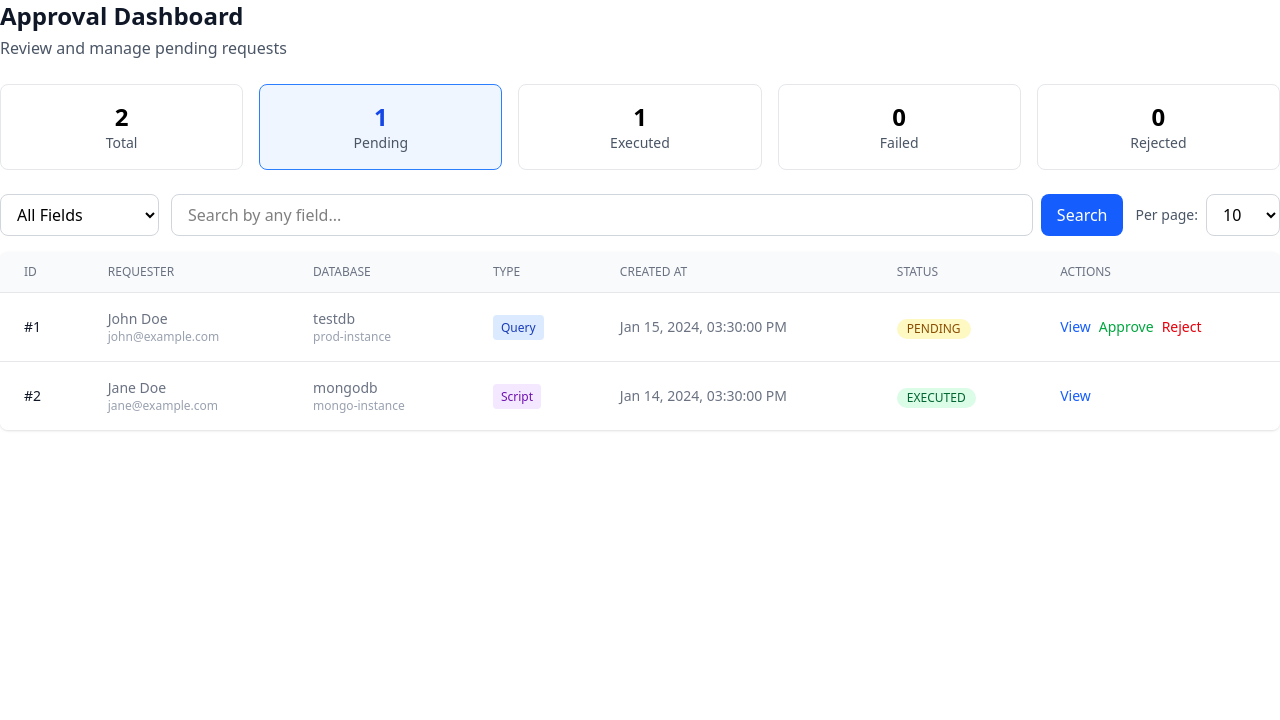
Test: ApprovalDashboard - Fixed Tests › Modal functionality › should open and close reject modal
Expected: the text "#1" is shown, top-left (0, 292), bottom-right (84, 362)
# Click reject button in table (first one)
Click the button "Reject": click(1182, 327) top-left (1162, 317), bottom-right (1202, 337)
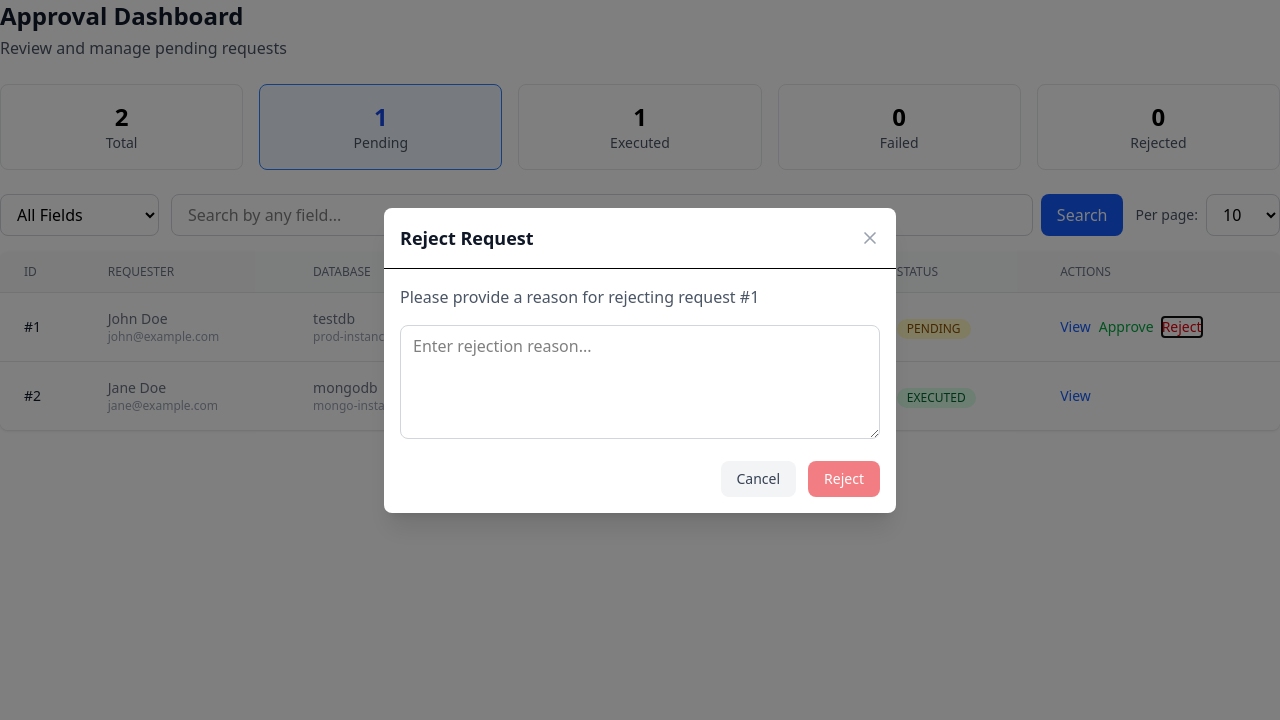
Expected: the text "Please provide a reason for rejecting request #1" is shown, top-left (400, 286), bottom-right (759, 308)
# Close modal by clicking Cancel
Click the button "Cancel": click(758, 478) top-left (720, 460), bottom-right (796, 496)
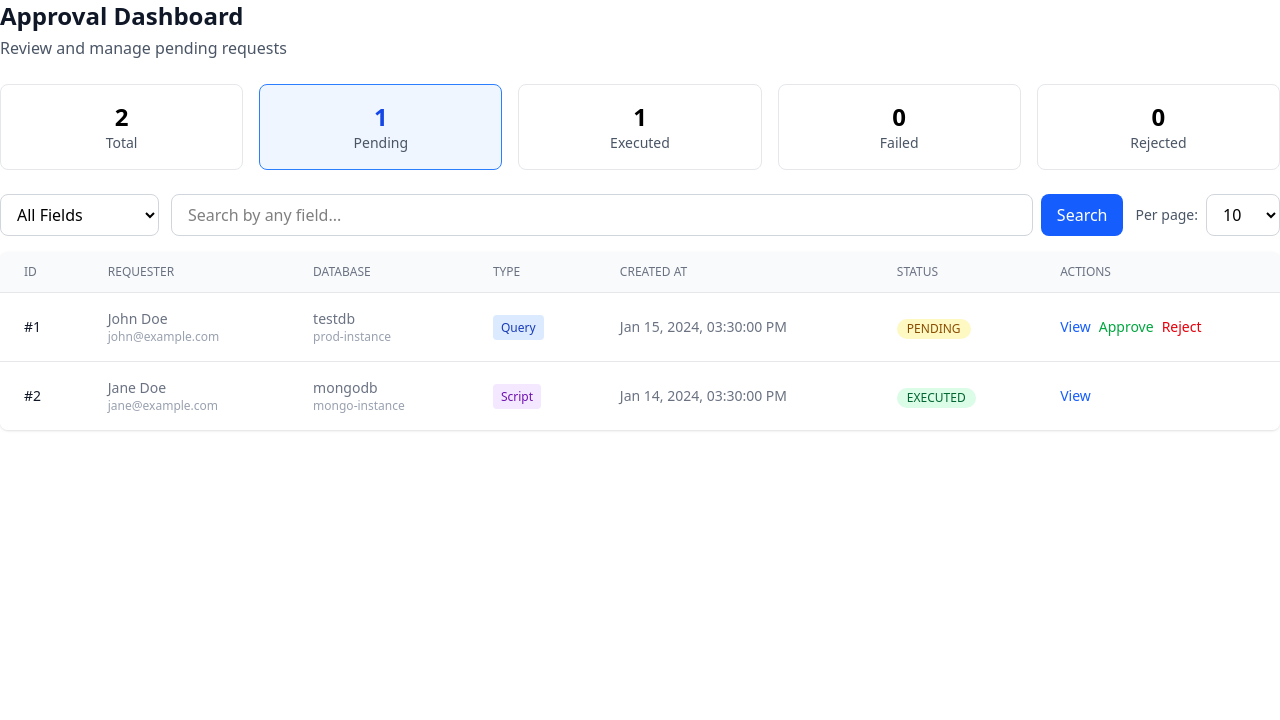
Expected: the text "Please provide a reason for rejecting" is gone
